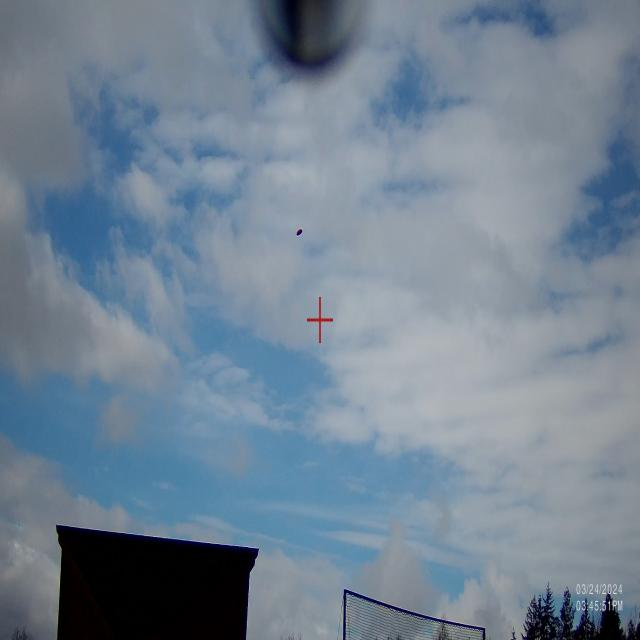entire: (292, 220, 302, 248)
